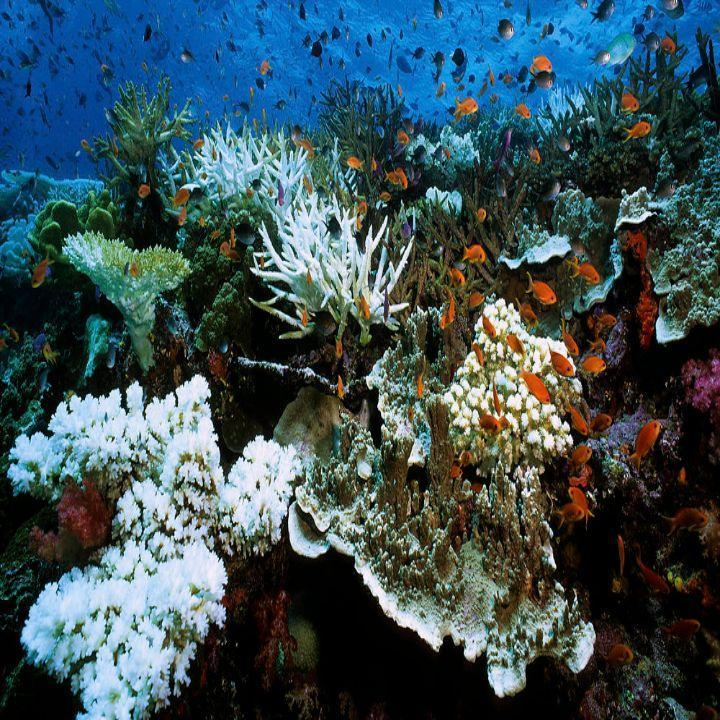Bleached disease: (20, 359, 597, 695)
Healthy Coral: (366, 90, 696, 254)
